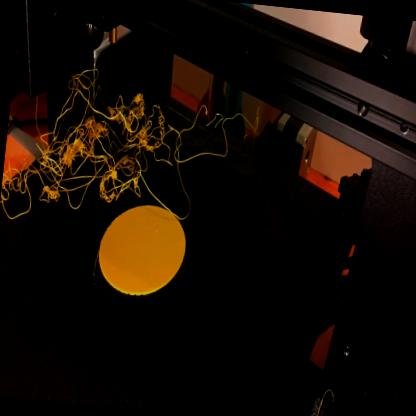fail: (1, 56, 176, 235)
